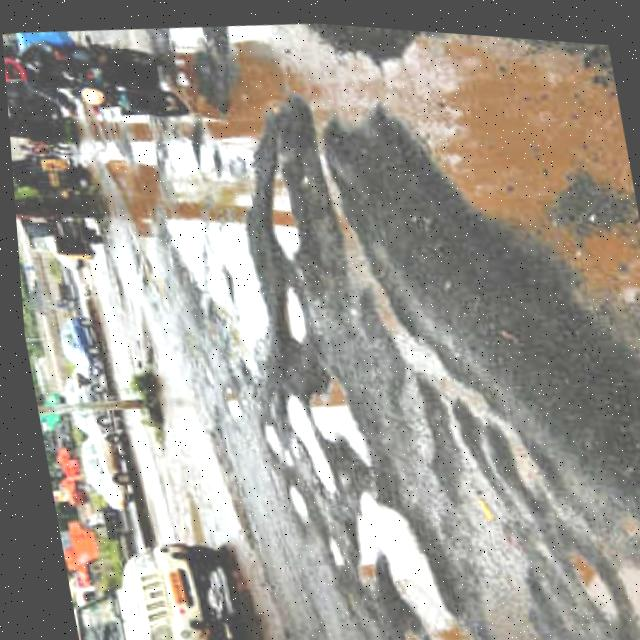Pothole: (442, 26, 576, 175), (324, 481, 420, 598), (317, 39, 390, 129), (247, 161, 312, 258), (148, 187, 213, 272), (301, 378, 363, 444), (606, 558, 640, 640), (164, 20, 215, 72), (270, 284, 314, 339), (270, 475, 308, 518), (384, 621, 421, 640)
